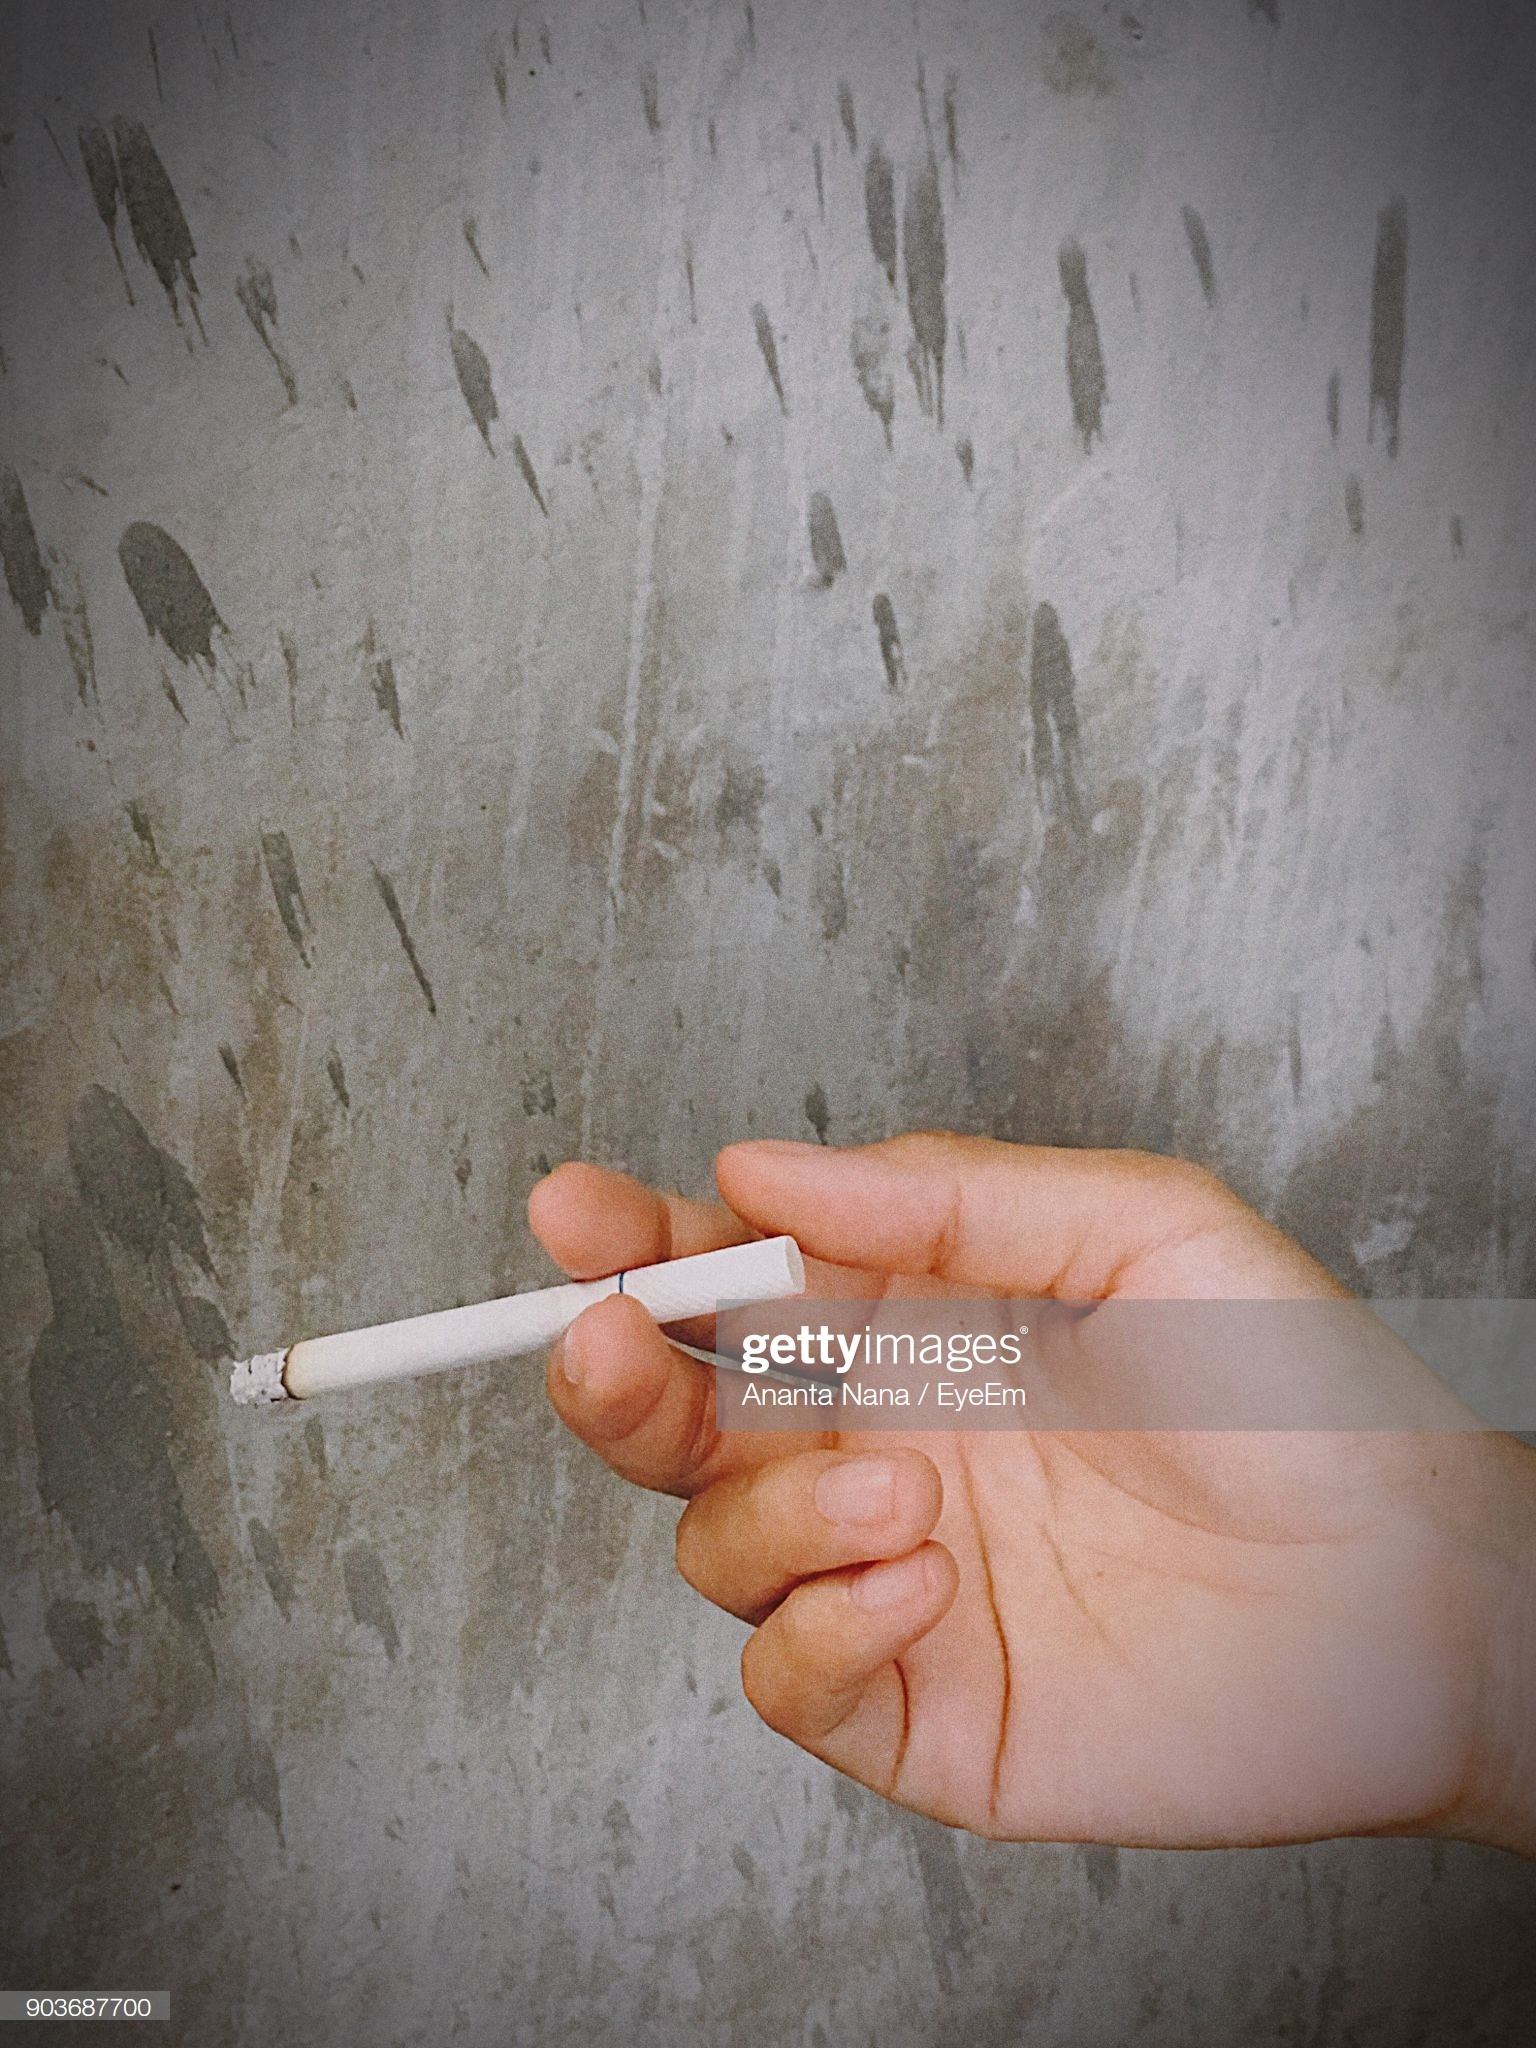sigaretta: (197, 1229, 807, 1442)
